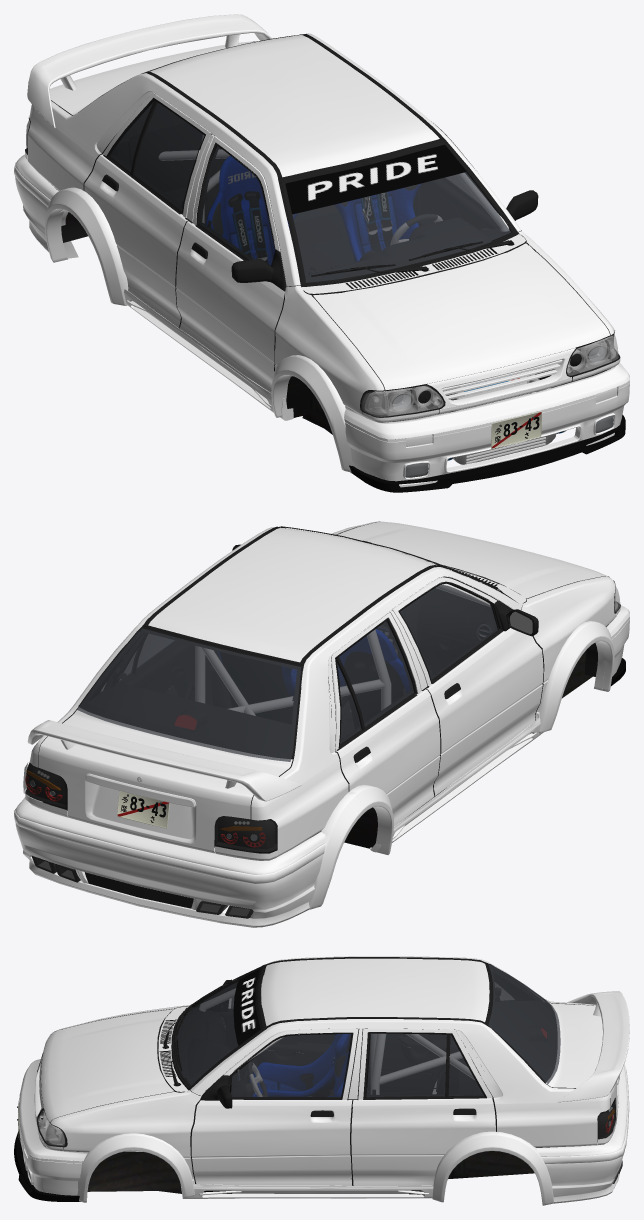
The model's file is saipa_pride_body.glb.
3 views of the same model, one above another, from view 1: azimuth 30°, elevation 25°; view 2: azimuth 150°, elevation 25°; view 3: azimuth 270°, elevation 25° (orthographic). The views are drawn at different scales.
Visible parts, largest first — view 1: chassis, bonnet_ok, interior_e, bump_front_ok, door_rf_ok, door_rr_ok, windscreen_ok, boot_ok, seat, jp, door_lf_ok, bump_rear_ok (+3 smaller); view 2: chassis, bump_rear_ok, boot_ok, door_rf_ok, windscreen_ok, interior_e, door_rr_ok, bonnet_ok, seat, door_lr_ok, rol, underbody (+3 smaller); view 3: chassis, door_lf_ok, door_lr_ok, interior_e, bonnet_ok, windscreen_ok, boot_ok, bump_rear_ok, bump_front_ok, underbody, seat, door_rr_ok (+3 smaller).
Boxes of the visible parts, x1,y1,x2,y2 form: chassis: [25, 33, 620, 422]; bonnet_ok: [313, 243, 609, 390]; interior_e: [45, 94, 611, 472]; bump_front_ok: [344, 334, 629, 492]; door_rf_ok: [176, 136, 290, 392]; door_rr_ok: [67, 93, 211, 328]; windscreen_ok: [78, 70, 510, 282]; boot_ok: [27, 14, 273, 128]; seat: [206, 156, 421, 265]; jp: [427, 348, 575, 413]; door_lf_ok: [418, 123, 538, 229]; bump_rear_ok: [14, 120, 78, 258]; chassis: [25, 521, 620, 860]; bump_rear_ok: [14, 763, 325, 927]; boot_ok: [27, 707, 301, 853]; door_rf_ok: [392, 576, 544, 796]; windscreen_ok: [77, 577, 454, 761]; interior_e: [46, 554, 614, 909]; door_rr_ok: [331, 612, 441, 854]; bonnet_ok: [336, 521, 608, 599]; seat: [218, 629, 409, 729]; door_lr_ok: [119, 634, 194, 700]; rol: [195, 583, 490, 715]; underbody: [43, 636, 592, 852]; chassis: [37, 956, 616, 1198]; door_lf_ok: [190, 1028, 358, 1185]; door_lr_ok: [351, 1028, 497, 1202]; interior_e: [77, 965, 599, 1205]; bonnet_ok: [41, 1009, 174, 1121]; windscreen_ok: [177, 964, 560, 1085]; boot_ok: [546, 991, 629, 1124]; bump_rear_ok: [536, 1064, 629, 1203]; bump_front_ok: [14, 1059, 87, 1201]; underbody: [48, 1080, 601, 1193]; seat: [249, 1034, 350, 1096]; door_rr_ok: [363, 1033, 465, 1094].
Size of the model in its own units: 2.07 by 1.4 by 4.6.
46 materials, 13 textured.
